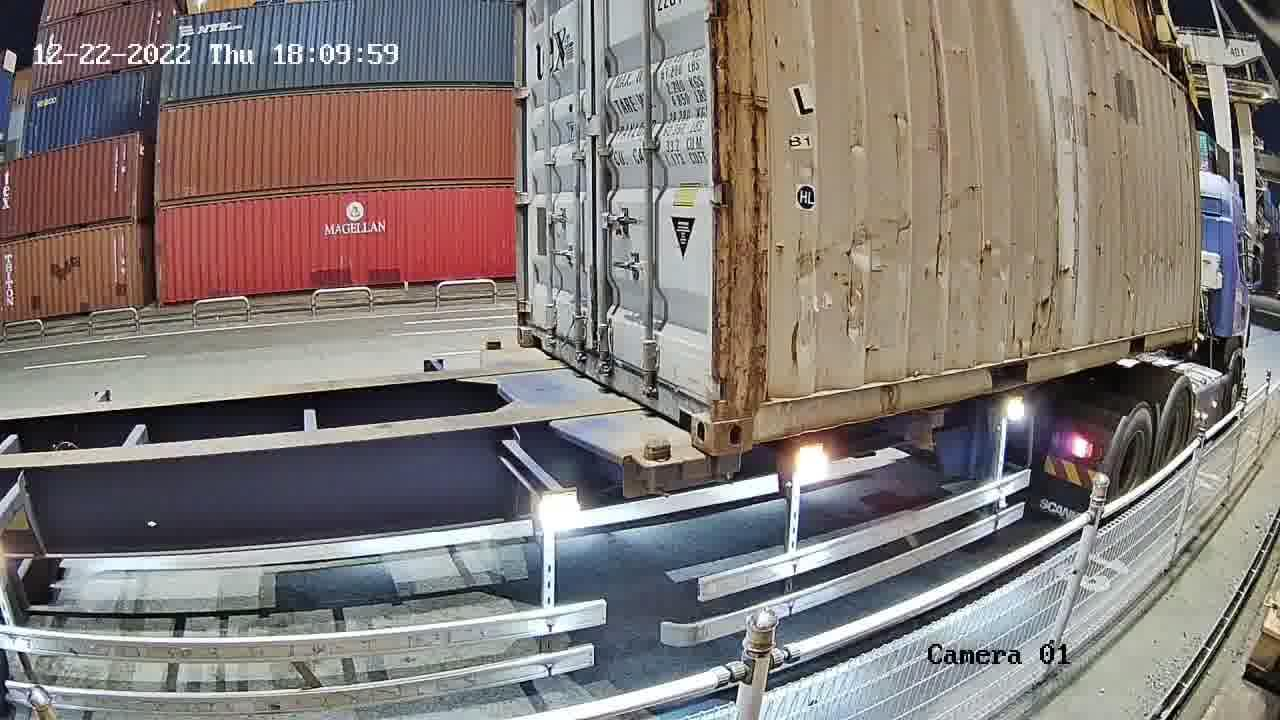Chassis: (483, 347, 674, 499)
Cone: (635, 439, 672, 497), (714, 453, 744, 486), (482, 331, 504, 352)
Hole_L: (714, 370, 785, 455), (516, 308, 549, 354)
Hole_R: (667, 364, 715, 455)
Tire: (1108, 407, 1155, 517), (1159, 389, 1191, 479)
